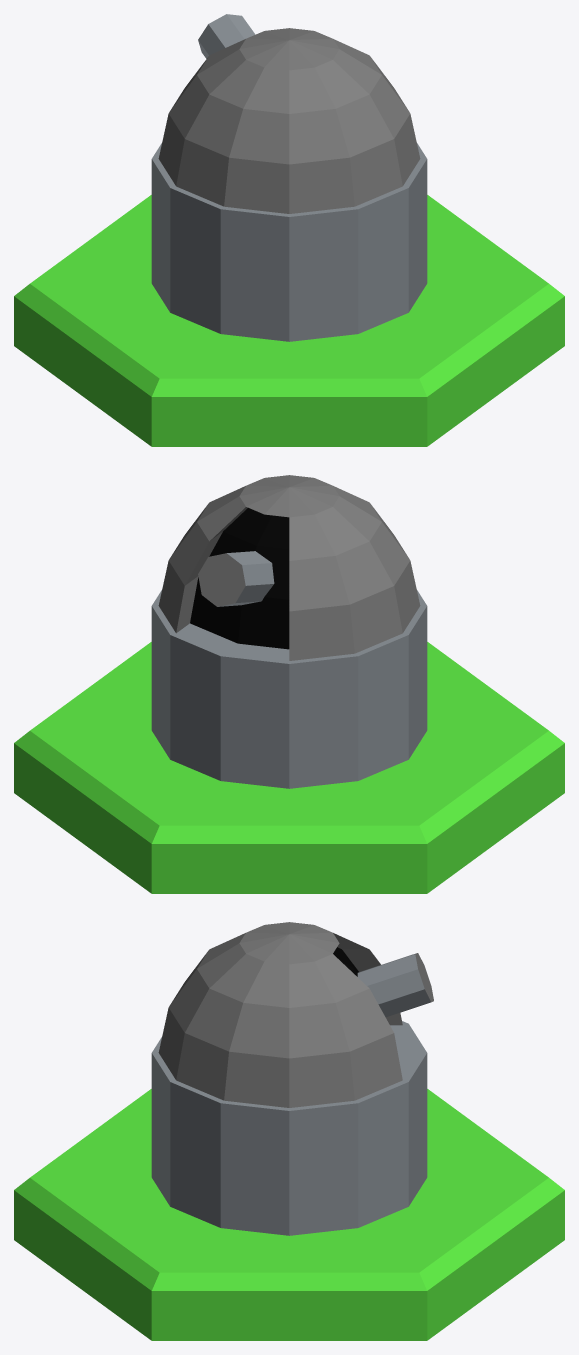
File: tile_lab_observatory.fbx
3 renders of one model, top to bottom at view 1: azimuth 30°, elevation 25°; view 2: azimuth 150°, elevation 25°; view 3: azimuth 270°, elevation 25°, orthographic.
Parts seen in each view (by area): view 1: Pad, Roof, Body; view 2: Pad, Body, Roof; view 3: Pad, Roof, Body.
Boxes of the visible parts, box(x1,y1,x2,y2) form: Pad: box(14, 195, 564, 446); Roof: box(158, 14, 420, 213); Body: box(151, 143, 427, 341); Pad: box(14, 642, 564, 893); Body: box(151, 590, 427, 788); Roof: box(158, 475, 420, 660); Pad: box(14, 1089, 564, 1340); Roof: box(158, 922, 433, 1107); Body: box(151, 1021, 427, 1235).
Bounding box in the file's own units: 346 × 245 × 400.
